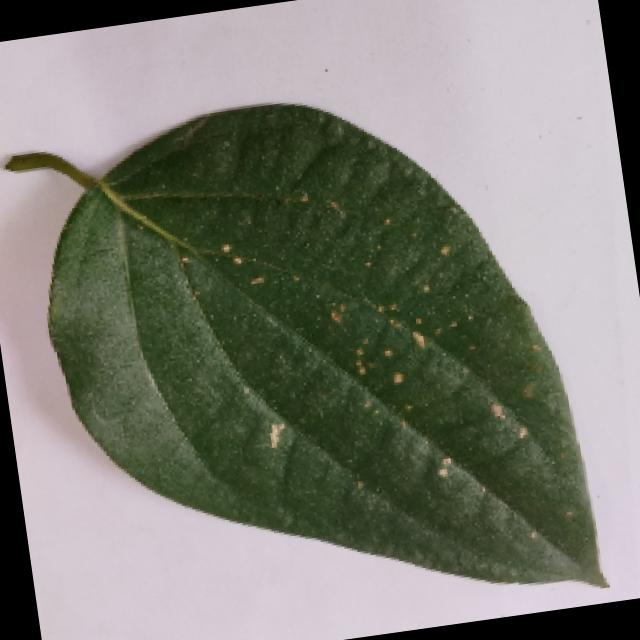pollu-disease: (7, 69, 610, 640)
